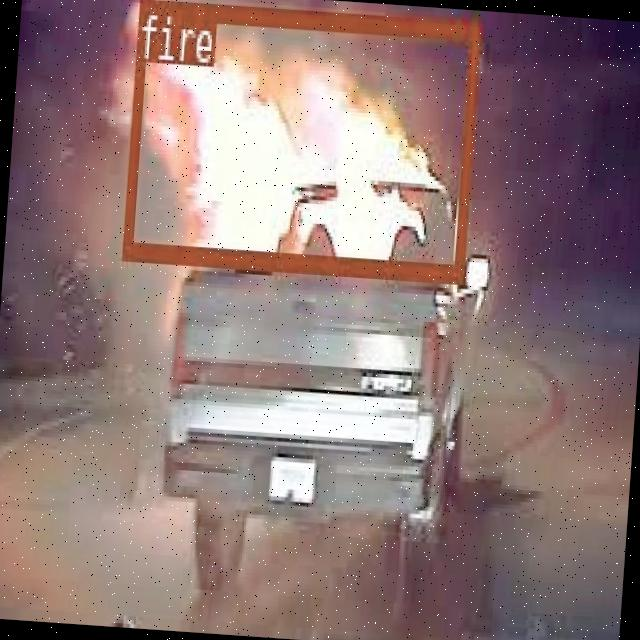fire: (121, 0, 478, 279)
